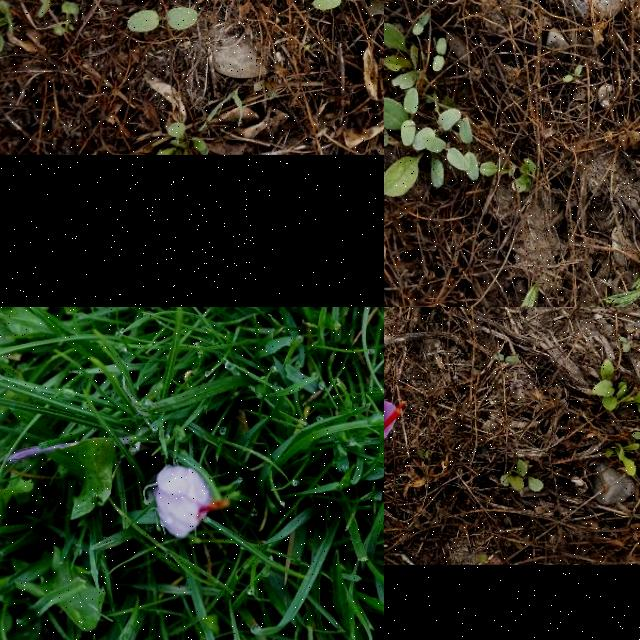flower: (152, 466, 232, 538), (384, 391, 406, 463)
